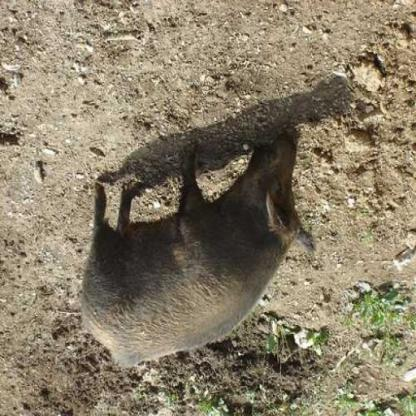boar: (71, 118, 336, 365)
